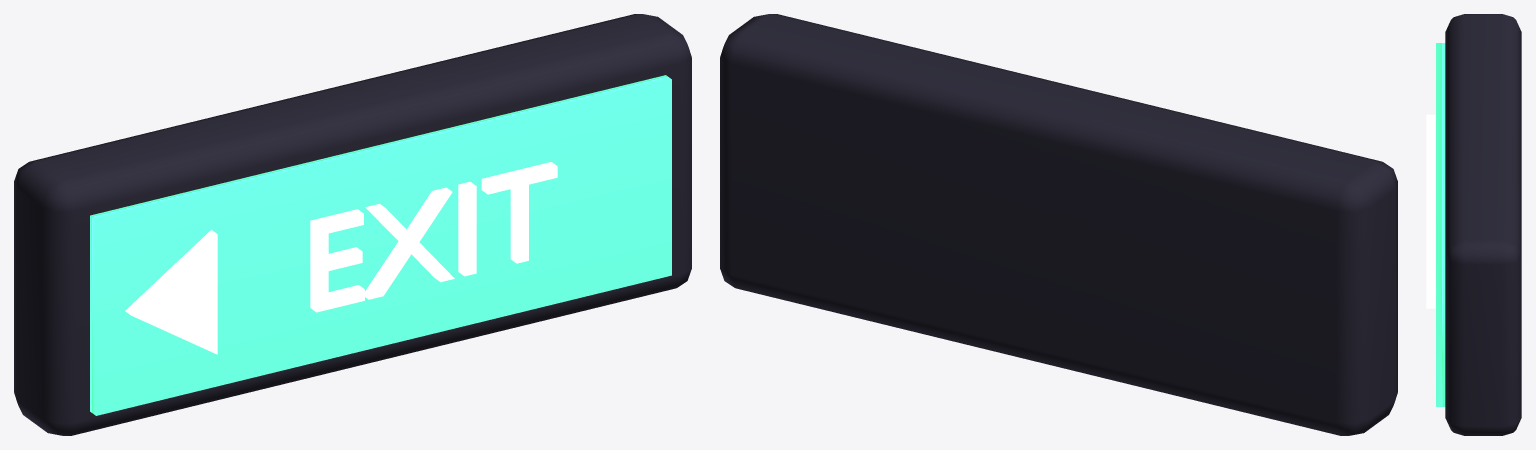
The model's file is mall_exit_sign.glb.
3 views of the same model, side by side, from view 1: azimuth 30°, elevation 25°; view 2: azimuth 150°, elevation 25°; view 3: azimuth 270°, elevation 25° (orthographic). The views are drawn at different scales.
Parts seen in each view (by area): view 1: ExitSign; view 2: ExitSign; view 3: ExitSign.
Boxes of the visible parts, x1,y1,x2,y2 form: ExitSign: (14, 14, 691, 435); ExitSign: (720, 14, 1397, 435); ExitSign: (1426, 14, 1521, 435).
Bounding box in the file's own units: 0.9 × 0.34 × 0.15.
